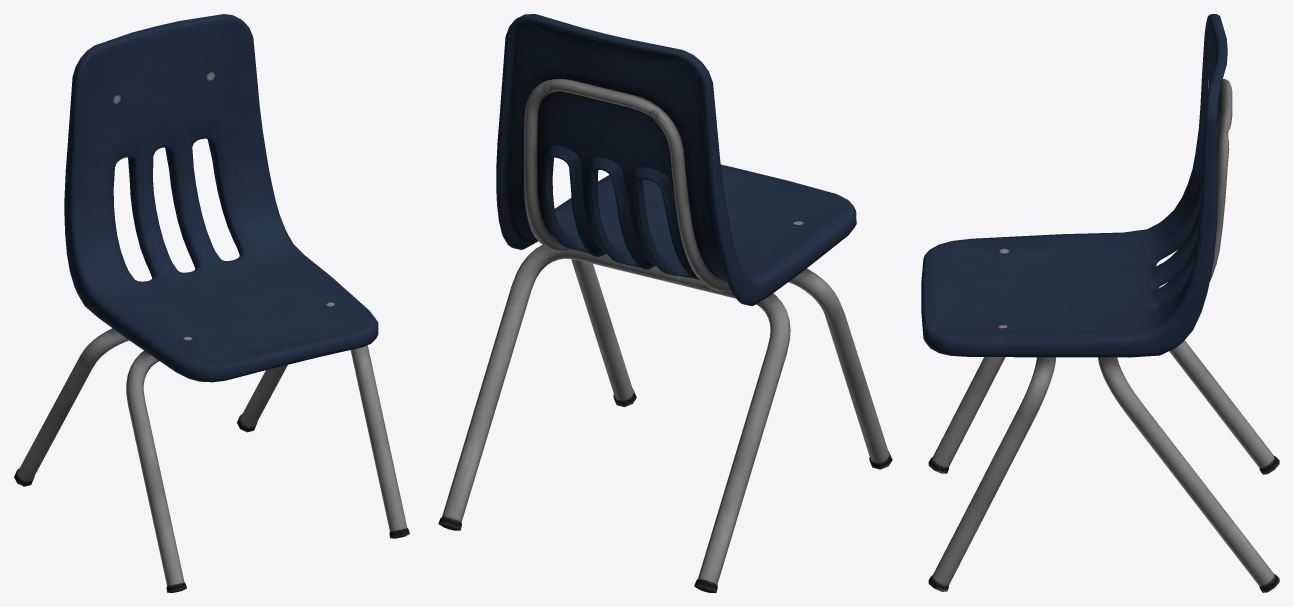
Rendered from SchoolChair_01.glb.
3 renders of one model, left to right at view 1: azimuth 30°, elevation 25°; view 2: azimuth 150°, elevation 25°; view 3: azimuth 270°, elevation 25°, orthographic. The views are drawn at different scales.
Visible parts, largest first — view 1: SchoolChair_01; view 2: SchoolChair_01; view 3: SchoolChair_01.
Boxes of the visible parts, box(x1,y1,x2,y2) form: SchoolChair_01: box(14, 14, 409, 592); SchoolChair_01: box(438, 14, 892, 592); SchoolChair_01: box(921, 14, 1279, 592).
Size of the model in its own units: 0.5659 by 1.01 by 0.6753.
1 material, 1 textured.
